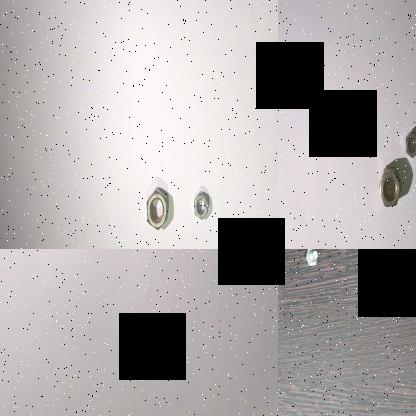Bolts: (303, 249, 321, 269)
NUTS: (145, 185, 171, 235), (378, 164, 402, 214), (190, 186, 214, 226), (403, 128, 416, 158)
